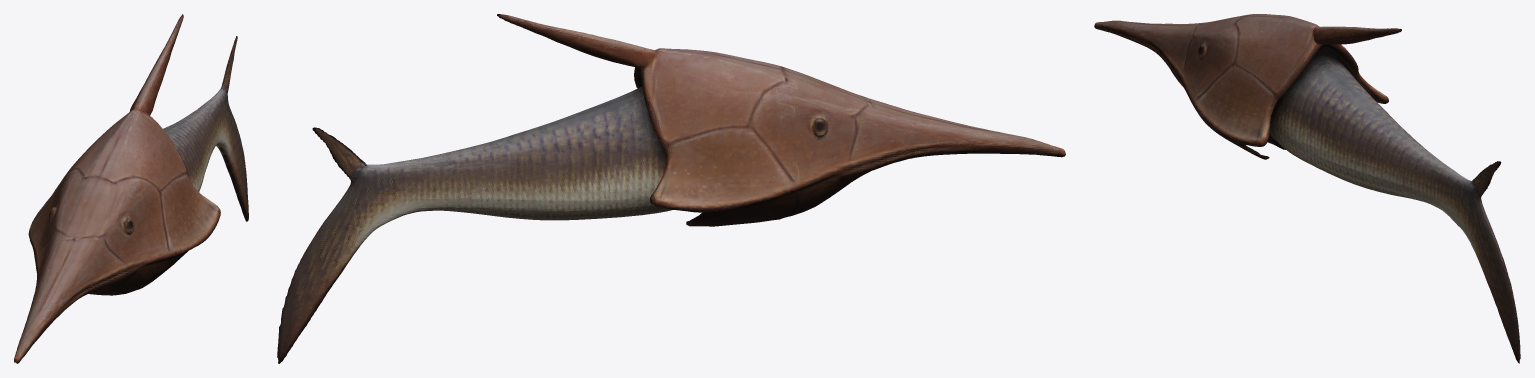
3 views of the same model, side by side, from view 1: azimuth 30°, elevation 25°; view 2: azimuth 150°, elevation 25°; view 3: azimuth 270°, elevation 25° (orthographic). The views are drawn at different scales.
Parts seen in each view (by area): view 1: world; view 2: world; view 3: world.
Boxes of the visible parts, <box> form: world: <box>14,14,248,363</box>; world: <box>277,14,1065,363</box>; world: <box>1094,14,1520,363</box>.
Bounding box in the file's own units: 0.22 × 0.1318 × 0.1849.
Materials: 1 (1 with a texture image).
